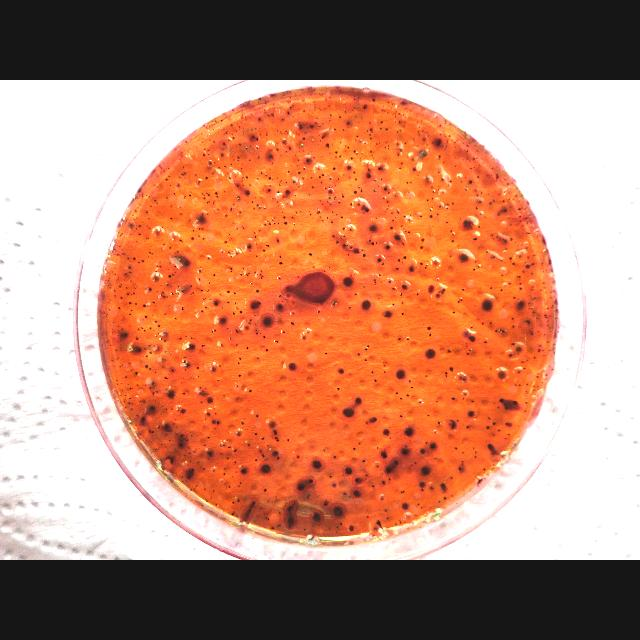colony: (478, 297, 496, 315), (341, 404, 357, 421), (358, 296, 372, 314), (310, 456, 324, 472), (332, 504, 346, 518), (260, 463, 274, 477), (286, 360, 300, 374), (285, 501, 299, 514), (382, 308, 394, 322), (342, 274, 354, 288), (310, 509, 322, 523), (286, 514, 298, 528), (496, 368, 508, 382), (462, 217, 474, 231), (399, 282, 411, 294), (420, 465, 432, 477), (404, 426, 416, 438), (395, 369, 407, 381), (131, 344, 143, 356), (260, 316, 272, 328), (248, 298, 260, 310), (425, 348, 437, 359), (292, 451, 304, 461), (459, 252, 471, 262), (194, 216, 208, 224), (368, 223, 379, 233), (446, 418, 456, 429), (268, 418, 278, 429), (418, 149, 428, 159), (466, 408, 476, 418), (418, 447, 428, 457), (296, 481, 306, 491), (351, 488, 361, 498), (344, 465, 354, 475), (486, 442, 496, 452), (336, 366, 346, 376), (218, 316, 228, 326), (439, 482, 448, 493), (424, 172, 432, 184), (408, 262, 416, 274), (186, 468, 194, 480), (154, 228, 162, 240), (379, 450, 388, 460), (353, 396, 362, 406), (360, 204, 370, 212), (427, 284, 435, 294), (401, 501, 409, 511), (346, 524, 356, 532), (270, 449, 280, 457), (384, 466, 394, 474), (369, 414, 377, 424), (400, 448, 410, 456), (506, 350, 514, 360), (516, 302, 526, 310), (168, 389, 176, 399), (187, 342, 195, 352), (120, 332, 130, 340), (152, 274, 160, 284), (429, 442, 437, 451), (418, 480, 427, 488), (392, 458, 400, 467), (382, 428, 390, 437), (433, 138, 442, 146), (352, 476, 363, 482), (386, 278, 394, 286), (384, 243, 392, 251), (393, 233, 401, 241), (304, 156, 312, 164), (377, 165, 385, 173), (394, 140, 402, 148), (428, 484, 436, 492), (514, 346, 522, 354), (524, 318, 532, 326), (476, 198, 484, 206), (466, 178, 474, 186), (235, 430, 243, 438), (240, 467, 248, 475), (206, 449, 214, 457), (148, 405, 156, 413), (276, 303, 284, 311), (163, 422, 170, 431), (437, 202, 443, 212), (250, 499, 258, 506), (322, 499, 330, 506), (468, 336, 477, 342), (390, 284, 396, 292), (397, 335, 403, 343), (353, 248, 361, 254), (366, 172, 372, 180), (396, 208, 402, 216), (450, 396, 458, 402), (376, 520, 384, 526), (306, 492, 312, 500), (308, 477, 314, 485), (380, 479, 386, 487), (272, 428, 278, 436), (516, 368, 522, 376), (504, 420, 510, 428), (482, 214, 488, 222), (140, 416, 146, 424), (180, 408, 186, 416), (207, 396, 213, 404), (128, 221, 134, 229), (245, 188, 251, 196), (267, 154, 275, 160), (214, 300, 220, 308), (399, 98, 406, 104), (439, 288, 446, 294), (245, 508, 252, 514), (364, 419, 370, 426), (502, 238, 508, 245), (472, 235, 478, 242), (178, 442, 185, 448), (400, 311, 406, 317), (398, 292, 404, 298), (406, 336, 412, 342), (376, 256, 382, 262), (328, 189, 334, 195), (346, 164, 352, 170), (298, 124, 304, 130), (346, 120, 352, 126), (382, 185, 388, 191), (362, 104, 368, 110), (410, 156, 416, 162), (411, 166, 417, 172), (420, 237, 426, 243), (448, 366, 454, 372), (436, 420, 442, 426), (458, 466, 464, 472), (276, 522, 282, 528), (331, 482, 337, 488), (332, 454, 338, 460), (258, 448, 264, 454), (260, 453, 266, 459), (374, 463, 380, 469), (512, 399, 518, 405), (458, 260, 464, 266), (450, 238, 456, 244), (448, 178, 454, 184), (502, 207, 508, 213), (232, 448, 238, 454), (162, 330, 168, 336), (452, 308, 456, 316), (354, 290, 358, 298), (474, 204, 478, 212), (302, 334, 306, 342), (306, 328, 310, 336), (240, 419, 244, 427), (148, 285, 152, 293), (222, 140, 226, 148), (286, 188, 290, 196), (308, 250, 312, 258), (282, 138, 286, 146), (236, 182, 240, 190), (486, 424, 490, 431), (400, 300, 404, 306), (426, 326, 432, 330), (428, 332, 432, 338), (348, 305, 352, 311), (400, 242, 406, 246), (359, 188, 363, 194), (334, 154, 338, 160), (325, 142, 329, 148), (301, 142, 305, 148), (304, 130, 308, 136), (310, 123, 314, 129), (329, 112, 333, 118), (367, 166, 371, 172), (370, 127, 374, 133), (370, 98, 376, 102), (398, 148, 404, 152), (396, 152, 400, 158), (404, 140, 408, 146), (405, 153, 409, 159), (398, 166, 402, 172), (428, 214, 434, 218), (419, 244, 423, 250), (435, 294, 441, 298), (470, 324, 474, 330), (464, 376, 468, 382), (458, 375, 462, 381), (464, 391, 468, 397), (465, 424, 469, 430), (426, 412, 430, 418), (420, 489, 426, 493), (372, 526, 378, 530), (270, 526, 276, 530), (220, 478, 224, 484), (348, 494, 352, 500), (322, 448, 326, 454), (254, 458, 260, 462), (352, 446, 356, 452), (358, 440, 362, 446), (362, 458, 366, 464), (364, 472, 368, 478), (370, 484, 376, 488), (260, 436, 266, 440), (254, 414, 260, 418), (247, 442, 251, 448), (482, 467, 486, 473), (492, 420, 496, 426), (398, 414, 404, 418), (406, 392, 410, 398), (482, 340, 488, 344), (498, 398, 504, 402), (504, 406, 510, 410), (519, 286, 523, 292), (526, 264, 530, 270), (538, 342, 542, 348), (548, 259, 552, 265), (526, 230, 530, 236), (450, 254, 454, 260), (449, 228, 453, 234), (451, 201, 455, 207), (445, 202, 449, 208), (478, 212, 482, 218), (440, 177, 444, 183), (446, 183, 452, 187), (497, 212, 501, 218), (479, 190, 483, 196), (457, 174, 461, 180), (472, 156, 476, 162), (422, 136, 426, 142), (258, 116, 262, 122), (336, 386, 340, 392), (370, 369, 374, 375), (248, 388, 252, 394), (227, 444, 231, 450), (222, 442, 226, 448), (198, 390, 202, 396), (160, 358, 166, 362), (144, 314, 148, 320), (148, 250, 152, 256), (191, 236, 195, 242), (169, 216, 173, 222), (178, 238, 182, 244), (277, 294, 283, 298), (290, 320, 294, 326), (282, 329, 286, 335), (274, 340, 280, 344), (245, 344, 249, 350), (238, 356, 242, 362), (251, 135, 255, 141), (255, 136, 259, 142), (208, 160, 212, 166), (202, 152, 206, 158), (284, 220, 288, 226), (220, 152, 224, 158), (288, 146, 292, 152), (302, 166, 306, 172), (236, 195, 240, 201), (255, 288, 259, 294), (249, 280, 253, 286), (217, 420, 220, 426), (182, 390, 185, 396), (197, 365, 200, 371), (197, 374, 200, 380), (362, 285, 366, 289), (392, 302, 396, 306), (415, 292, 419, 296), (372, 277, 376, 281), (381, 262, 385, 266), (362, 253, 366, 257), (349, 245, 353, 249), (342, 244, 346, 248), (335, 240, 339, 244), (371, 242, 375, 246), (349, 228, 353, 232), (342, 226, 346, 230), (316, 210, 320, 214), (353, 190, 357, 194), (356, 202, 360, 206), (358, 185, 362, 189), (362, 211, 366, 215), (348, 176, 352, 180), (328, 177, 332, 181), (332, 167, 336, 171), (317, 167, 321, 171), (318, 175, 322, 179), (310, 176, 314, 180), (312, 156, 316, 160), (334, 150, 338, 154), (338, 154, 342, 158), (311, 139, 315, 143), (302, 136, 306, 140), (322, 135, 326, 139), (318, 124, 322, 128), (333, 128, 337, 132), (342, 128, 346, 132), (352, 149, 356, 153), (358, 139, 362, 143), (354, 115, 358, 119), (344, 110, 348, 114), (389, 226, 393, 230), (382, 196, 386, 200), (373, 188, 377, 192), (394, 194, 398, 198), (374, 178, 378, 182), (380, 120, 384, 124), (458, 135, 462, 139), (394, 119, 398, 123), (412, 137, 416, 141), (416, 144, 420, 148), (400, 161, 404, 165), (400, 172, 404, 176), (432, 190, 436, 194), (407, 218, 411, 222), (402, 214, 406, 218), (403, 255, 407, 259), (397, 258, 401, 262), (419, 261, 423, 265), (436, 277, 440, 281), (459, 297, 463, 301), (469, 348, 473, 352), (447, 349, 451, 353), (444, 371, 448, 375), (444, 374, 448, 378), (424, 374, 428, 378), (462, 396, 466, 400), (471, 399, 475, 403), (434, 430, 438, 434), (454, 446, 458, 450), (433, 456, 437, 460), (461, 451, 465, 455), (443, 496, 447, 500), (438, 500, 442, 504), (414, 513, 418, 517), (398, 520, 402, 524), (394, 522, 398, 526), (384, 509, 388, 513), (339, 522, 343, 526), (328, 526, 332, 530), (310, 524, 314, 528), (264, 516, 268, 520), (256, 514, 260, 518), (237, 498, 241, 502), (211, 469, 215, 473), (223, 467, 227, 471), (329, 475, 333, 479), (342, 492, 346, 496), (276, 456, 280, 460), (286, 439, 290, 443), (380, 472, 384, 476), (388, 436, 392, 440), (254, 432, 258, 436), (404, 444, 408, 448), (414, 461, 418, 465), (497, 428, 501, 432), (507, 432, 511, 436), (487, 416, 491, 420), (435, 400, 439, 404), (418, 400, 422, 404), (395, 391, 399, 395), (408, 379, 412, 383), (382, 364, 386, 368), (511, 342, 515, 346), (522, 367, 526, 371), (532, 388, 536, 392), (496, 406, 500, 410), (494, 329, 498, 333), (502, 330, 506, 334), (511, 317, 515, 321), (489, 286, 493, 290), (499, 288, 503, 292), (512, 296, 516, 300), (508, 281, 512, 285), (500, 273, 504, 277), (518, 282, 522, 286), (517, 275, 521, 279), (530, 272, 534, 276), (508, 256, 512, 260), (492, 255, 496, 259), (486, 250, 490, 254), (472, 268, 476, 272), (476, 264, 480, 268), (530, 332, 534, 336), (532, 356, 536, 360), (550, 305, 554, 309), (550, 268, 554, 272), (518, 254, 522, 258), (458, 217, 462, 221), (477, 224, 481, 228), (445, 207, 449, 211), (465, 188, 469, 192), (442, 190, 446, 194), (438, 154, 442, 158), (488, 201, 492, 205), (492, 198, 496, 202), (474, 188, 478, 192), (476, 175, 480, 179), (398, 120, 402, 124), (328, 96, 332, 100), (287, 111, 291, 115), (270, 94, 274, 98), (324, 352, 328, 356), (364, 358, 368, 362), (364, 347, 368, 351), (212, 420, 216, 424), (144, 365, 148, 369), (148, 344, 152, 348), (154, 320, 158, 324), (157, 324, 161, 328), (140, 326, 144, 330), (130, 308, 134, 312), (142, 304, 146, 308), (126, 292, 130, 296), (128, 265, 132, 269), (124, 272, 128, 276), (132, 256, 136, 260), (126, 256, 130, 260), (138, 232, 142, 236), (138, 224, 142, 228), (226, 290, 230, 294), (201, 344, 205, 348), (264, 348, 268, 352), (238, 374, 242, 378), (268, 188, 272, 192), (268, 176, 272, 180), (284, 150, 288, 154), (214, 192, 218, 196), (287, 170, 291, 174), (260, 171, 264, 175), (229, 207, 233, 211), (188, 194, 192, 198), (165, 196, 169, 200), (172, 192, 176, 196), (168, 274, 172, 278), (239, 310, 243, 314), (226, 300, 230, 304), (332, 235, 336, 238), (341, 215, 344, 219), (331, 220, 334, 224), (326, 216, 329, 220), (328, 197, 332, 200), (352, 170, 356, 173), (321, 181, 324, 185), (314, 122, 318, 125), (346, 146, 349, 150), (356, 150, 358, 156), (361, 151, 364, 155), (361, 116, 364, 120), (338, 115, 342, 118), (381, 177, 384, 181), (368, 122, 372, 125), (352, 105, 356, 108), (336, 86, 339, 90), (426, 198, 429, 202), (436, 212, 439, 216), (401, 260, 404, 264), (474, 451, 478, 454), (451, 494, 454, 498), (416, 502, 419, 506), (386, 516, 389, 520), (202, 467, 205, 471), (222, 472, 225, 476), (274, 436, 278, 439), (410, 462, 412, 468), (504, 436, 506, 442), (411, 385, 414, 389), (488, 356, 492, 359), (524, 401, 528, 404), (501, 259, 504, 263), (546, 341, 550, 344), (510, 236, 512, 242), (446, 219, 448, 225), (502, 198, 504, 204), (486, 193, 489, 197), (358, 352, 360, 358), (374, 378, 376, 384), (366, 344, 369, 348), (220, 442, 222, 448), (227, 456, 230, 460), (165, 408, 168, 412), (156, 346, 158, 352), (192, 228, 194, 234), (164, 376, 168, 379), (237, 156, 240, 160), (228, 177, 232, 180), (147, 217, 151, 220), (376, 185, 379, 188), (401, 225, 404, 228), (491, 235, 494, 238), (207, 436, 210, 439), (374, 284, 378, 286), (380, 280, 382, 284), (378, 296, 380, 300), (378, 274, 382, 276), (396, 267, 398, 271), (362, 248, 364, 252), (342, 235, 346, 237), (368, 240, 372, 242), (321, 220, 325, 222), (318, 200, 322, 202), (330, 202, 332, 206), (338, 200, 340, 204), (350, 202, 352, 206), (354, 213, 356, 217), (354, 178, 358, 180), (312, 185, 314, 189), (329, 151, 331, 155), (298, 158, 300, 162), (320, 138, 322, 142), (307, 126, 309, 130), (322, 122, 324, 126), (328, 120, 332, 122), (345, 144, 347, 148), (350, 156, 352, 160), (354, 138, 356, 142), (356, 134, 358, 138), (364, 141, 366, 145), (358, 120, 360, 124), (316, 116, 318, 120), (374, 217, 378, 219), (388, 191, 390, 195), (376, 142, 378, 146), (386, 140, 388, 144), (384, 146, 388, 148), (380, 127, 382, 131), (386, 127, 388, 131), (396, 130, 398, 134), (403, 124, 405, 128), (398, 112, 400, 116), (383, 104, 385, 108), (381, 108, 383, 112), (387, 110, 389, 114), (392, 112, 394, 116), (387, 100, 389, 104), (391, 102, 393, 106), (358, 96, 360, 100), (353, 94, 355, 98), (352, 108, 354, 112), (394, 114, 396, 118), (417, 173, 419, 177), (406, 181, 408, 185), (410, 180, 412, 184), (432, 196, 434, 200), (430, 208, 432, 212), (419, 216, 423, 218), (408, 230, 410, 234), (422, 324, 426, 326), (462, 288, 464, 292), (458, 300, 460, 304), (426, 441, 428, 445), (474, 455, 476, 459), (462, 460, 464, 464), (450, 476, 452, 480), (415, 504, 417, 508), (400, 490, 402, 494), (335, 526, 339, 528), (336, 530, 338, 534), (304, 528, 306, 532), (278, 512, 282, 514), (268, 517, 270, 521), (268, 499, 270, 503), (276, 496, 278, 500), (236, 514, 238, 518), (232, 512, 234, 516), (264, 488, 266, 492), (240, 481, 242, 485), (228, 486, 232, 488), (215, 502, 217, 506), (206, 499, 208, 503), (196, 484, 198, 488), (190, 487, 192, 491), (376, 446, 378, 450), (388, 478, 390, 482), (276, 440, 280, 442), (266, 444, 268, 448), (521, 360, 523, 364), (532, 384, 534, 388), (545, 373, 547, 377), (524, 409, 526, 413), (482, 322, 484, 326), (490, 321, 492, 325), (500, 328, 502, 332), (512, 324, 514, 328), (502, 304, 504, 308), (522, 270, 524, 274), (532, 262, 534, 266), (512, 262, 514, 266), (474, 259, 476, 263), (542, 355, 546, 357), (548, 348, 550, 352), (536, 316, 538, 320), (534, 296, 536, 300), (540, 288, 542, 292), (549, 290, 551, 294), (545, 290, 547, 294), (546, 306, 548, 310), (549, 314, 551, 318), (541, 262, 543, 266), (542, 270, 544, 274), (545, 269, 547, 273), (532, 254, 536, 256), (496, 235, 498, 239), (492, 238, 496, 240), (504, 248, 508, 250), (503, 252, 507, 254), (518, 208, 520, 212), (475, 194, 479, 196), (470, 167, 472, 171), (461, 180, 463, 184), (418, 130, 420, 134), (418, 125, 420, 129), (439, 124, 441, 128), (449, 134, 451, 138), (446, 144, 448, 148), (325, 98, 327, 102), (321, 92, 323, 96), (302, 110, 306, 112), (290, 106, 292, 110), (282, 117, 284, 121), (264, 108, 266, 112), (264, 101, 266, 105), (258, 98, 262, 100), (234, 460, 236, 464), (220, 452, 222, 456), (204, 444, 206, 448), (204, 417, 206, 421), (207, 392, 209, 396), (223, 394, 225, 398), (217, 378, 219, 382), (172, 368, 174, 372), (178, 338, 182, 340), (146, 354, 148, 358), (150, 350, 152, 354), (136, 328, 140, 330), (128, 314, 132, 316), (128, 302, 132, 304), (118, 306, 120, 310), (135, 302, 137, 306), (118, 286, 122, 288), (138, 261, 140, 265), (142, 259, 144, 263), (136, 239, 138, 243), (146, 210, 148, 214), (280, 260, 282, 264), (277, 148, 279, 152), (246, 147, 248, 151), (258, 155, 260, 159), (249, 158, 251, 162), (239, 142, 241, 146), (230, 123, 232, 127), (246, 175, 248, 179), (206, 176, 208, 180), (233, 202, 235, 206), (154, 198, 156, 202), (234, 291, 236, 295), (234, 300, 236, 304), (347, 252, 349, 255), (336, 212, 338, 215), (332, 210, 334, 213), (316, 207, 318, 210), (321, 203, 324, 205), (327, 200, 329, 203), (341, 192, 343, 195), (325, 187, 327, 190), (391, 212, 394, 214), (387, 200, 389, 203), (371, 154, 374, 156), (431, 186, 434, 188), (405, 230, 407, 233), (466, 353, 469, 355), (456, 420, 459, 422), (473, 446, 475, 449), (421, 506, 424, 508), (366, 516, 369, 518), (260, 506, 262, 509), (232, 501, 234, 504), (234, 511, 236, 514), (210, 496, 212, 499), (194, 486, 196, 489), (182, 481, 184, 484), (235, 471, 237, 474), (207, 458, 210, 460), (197, 462, 200, 464), (396, 431, 398, 434), (384, 371, 386, 374), (537, 331, 539, 334), (526, 247, 528, 250), (452, 232, 454, 235), (438, 170, 440, 173), (454, 165, 456, 168), (466, 158, 469, 160), (421, 120, 424, 122), (289, 95, 291, 98), (240, 464, 243, 466), (190, 434, 193, 436), (214, 426, 216, 429), (193, 451, 195, 454), (200, 401, 202, 404), (150, 326, 152, 329), (151, 252, 153, 255), (148, 227, 150, 230), (224, 165, 226, 168), (218, 167, 220, 170), (202, 192, 204, 195), (202, 195, 205, 197), (206, 200, 208, 203), (374, 281, 376, 283), (347, 244, 349, 246), (376, 242, 378, 244), (320, 216, 322, 218), (310, 214, 312, 216), (308, 210, 310, 212), (333, 201, 335, 203), (342, 196, 344, 198), (334, 196, 336, 198), (333, 198, 335, 200), (328, 186, 330, 188), (334, 184, 336, 186), (350, 184, 352, 186), (343, 174, 345, 176), (337, 178, 339, 180), (322, 174, 324, 176), (308, 194, 310, 196), (339, 142, 341, 144), (331, 144, 333, 146), (338, 147, 340, 149), (298, 150, 300, 152), (302, 150, 304, 152), (318, 134, 320, 136), (334, 138, 336, 140), (345, 150, 347, 152), (360, 157, 362, 159), (360, 159, 362, 161), (328, 105, 330, 107), (320, 109, 322, 111), (324, 108, 326, 110), (392, 219, 394, 221), (395, 216, 397, 218), (385, 211, 387, 213), (386, 208, 388, 210), (387, 205, 389, 207), (373, 158, 375, 160), (370, 150, 372, 152), (374, 145, 376, 147), (388, 145, 390, 147), (388, 148, 390, 150), (370, 138, 372, 140), (369, 134, 371, 136), (366, 130, 368, 132), (399, 130, 401, 132), (390, 107, 392, 109), (357, 100, 359, 102), (354, 98, 356, 100), (340, 89, 342, 91), (394, 103, 396, 105), (395, 110, 397, 112), (395, 113, 397, 115), (403, 114, 405, 116), (431, 206, 433, 208), (410, 214, 412, 216), (402, 228, 404, 230), (401, 257, 403, 259), (426, 264, 428, 266), (424, 266, 426, 268), (466, 345, 468, 347), (403, 490, 405, 492), (338, 529, 340, 531), (263, 512, 265, 514), (213, 490, 215, 492), (204, 488, 206, 490), (182, 476, 184, 478), (185, 480, 187, 482), (231, 475, 233, 477), (190, 460, 192, 462), (400, 398, 402, 400), (490, 368, 492, 370), (526, 360, 528, 362), (519, 384, 521, 386), (526, 384, 528, 386), (515, 384, 517, 386), (525, 390, 527, 392), (537, 373, 539, 375), (536, 376, 538, 378), (537, 386, 539, 388), (517, 425, 519, 427), (518, 298, 520, 300), (524, 262, 526, 264), (543, 334, 545, 336), (539, 349, 541, 351), (538, 351, 540, 353), (542, 349, 544, 351), (544, 314, 546, 316), (546, 317, 548, 319), (533, 311, 535, 313), (531, 308, 533, 310), (528, 307, 530, 309), (528, 303, 530, 305), (543, 282, 545, 284), (544, 287, 546, 289), (530, 289, 532, 291), (547, 324, 549, 326), (547, 320, 549, 322), (548, 327, 550, 329), (528, 256, 530, 258), (464, 176, 466, 178), (454, 142, 456, 144), (444, 148, 446, 150), (422, 130, 424, 132), (426, 132, 428, 134), (427, 135, 429, 137), (466, 144, 468, 146), (418, 134, 420, 136), (313, 89, 315, 91), (298, 113, 300, 115), (292, 104, 294, 106), (264, 112, 266, 114), (188, 452, 190, 454), (196, 448, 198, 450), (184, 455, 186, 457), (211, 400, 213, 402), (199, 386, 201, 388), (205, 387, 207, 389), (171, 408, 173, 410), (175, 317, 177, 319), (144, 330, 146, 332), (136, 338, 138, 340), (120, 296, 122, 298), (133, 292, 135, 294), (130, 272, 132, 274), (132, 214, 134, 216), (298, 172, 300, 174), (216, 196, 218, 198), (213, 210, 215, 212), (208, 194, 210, 196), (206, 192, 208, 194), (337, 145, 338, 147), (377, 147, 378, 149), (372, 110, 373, 112), (380, 142, 380, 144), (136, 336, 136, 338)
